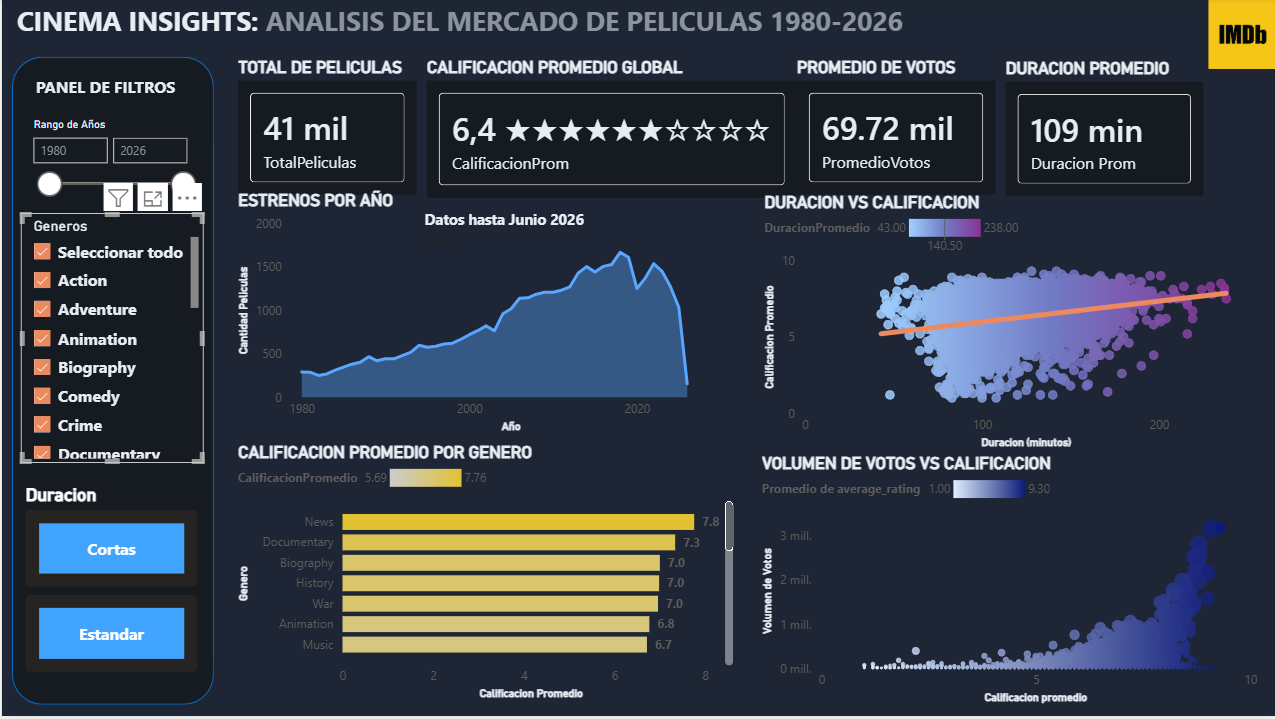

What the dashboard file says about the page in this screenshot:
{"tool":"powerbi","page":{"name":"Dashboard","canvas":[1280,720],"ordinal":0},"visuals":[{"type":"textbox","box":[10,0,1118.8,58.8],"z":0},{"type":"shape","box":[10,58.8,202.5,650],"z":1000},{"type":"textbox","box":[28.8,72.5,165,42.5],"z":2000},{"type":"image","box":[1210.4,0,69.8,72.3],"z":3000},{"type":"slicer","fields":{"Values":["imdb_clean.year"]},"box":[18.4,115.2,183.8,120.1],"z":4000},{"type":"cardVisual","title":"TOTAL DE PELICULAS","fields":{"Data":["imdb_clean.TotalPeliculas"]},"box":[231.5,58.8,189.9,143.3],"z":5000},{"type":"cardVisual","title":"CALIFICACION PROMEDIO GLOBAL","fields":{"Data":["imdb_clean.Tarjeta Estrellas"]},"box":[421.4,58.8,381,147],"z":6000},{"type":"cardVisual","title":"PROMEDIO DE VOTOS","fields":{"Data":["imdb_clean.PromedioVotos"]},"box":[792.7,58.8,209.5,143.3],"z":7000},{"type":"cardVisual","title":"DURACION PROMEDIO","fields":{"Data":["imdb_clean.Duracion Prom"]},"box":[1002.1,60,208.3,143.3],"z":8000},{"type":"slicer","fields":{"Values":["imdb_clean.genres"]},"box":[18.4,215.6,183.8,251.1],"z":9000},{"type":"advancedSlicerVisual","fields":{"Values":["imdb_clean.Duracion"]},"box":[18.4,487.6,182.5,193.6],"z":10000},{"type":"areaChart","title":"ESTRENOS POR AÑO","fields":{"Category":["imdb_clean.year"],"Y":["imdb_clean.TotalPeliculas"]},"box":[231.5,193.6,507.2,247.5],"z":11000},{"type":"scatterChart","title":"DURACION VS CALIFICACION","fields":{"X":["imdb_clean.runtime_minutes"],"Y":["imdb_clean.average_rating"]},"box":[759.6,194.8,504.7,262.2],"z":12000},{"type":"barChart","title":"CALIFICACION PROMEDIO POR GENERO","fields":{"Category":["imdb_clean.genres"],"Y":["imdb_clean.CalificacionPromedio"]},"box":[232,445.1,506.6,263.3],"z":12001},{"type":"scatterChart","title":"VOLUMEN DE VOTOS VS CALIFICACION","fields":{"X":["imdb_clean.average_rating"],"Y":["imdb_clean.num_votes"],"Size":["Sum(imdb_clean.num_votes)1"]},"box":[757.1,457,507.2,256],"z":12002},{"type":"textbox","box":[418.8,206.9,184.3,56.4],"z":12003}]}

Visuals, with their boxes in screenshot pixels (x1, y1, x2, y2), scaled from the page's 1280x720 canvas onto the 1275x719 screenshot:
textbox: Rect(10, 0, 1124, 59)
shape: Rect(10, 59, 212, 708)
textbox: Rect(29, 72, 193, 115)
image: Rect(1206, 0, 1274, 72)
slicer - imdb_clean.year: Rect(18, 115, 201, 235)
"TOTAL DE PELICULAS" cardVisual: Rect(231, 59, 420, 202)
"CALIFICACION PROMEDIO GLOBAL" cardVisual: Rect(420, 59, 799, 206)
"PROMEDIO DE VOTOS" cardVisual: Rect(790, 59, 998, 202)
"DURACION PROMEDIO" cardVisual: Rect(998, 60, 1206, 203)
slicer - imdb_clean.genres: Rect(18, 215, 201, 466)
advancedSlicerVisual - imdb_clean.Duracion: Rect(18, 487, 200, 680)
"ESTRENOS POR AÑO" areaChart: Rect(231, 193, 736, 440)
"DURACION VS CALIFICACION" scatterChart: Rect(757, 195, 1259, 456)
"CALIFICACION PROMEDIO POR GENERO" barChart: Rect(231, 444, 736, 707)
"VOLUMEN DE VOTOS VS CALIFICACION" scatterChart: Rect(754, 456, 1259, 712)
textbox: Rect(417, 207, 601, 263)
